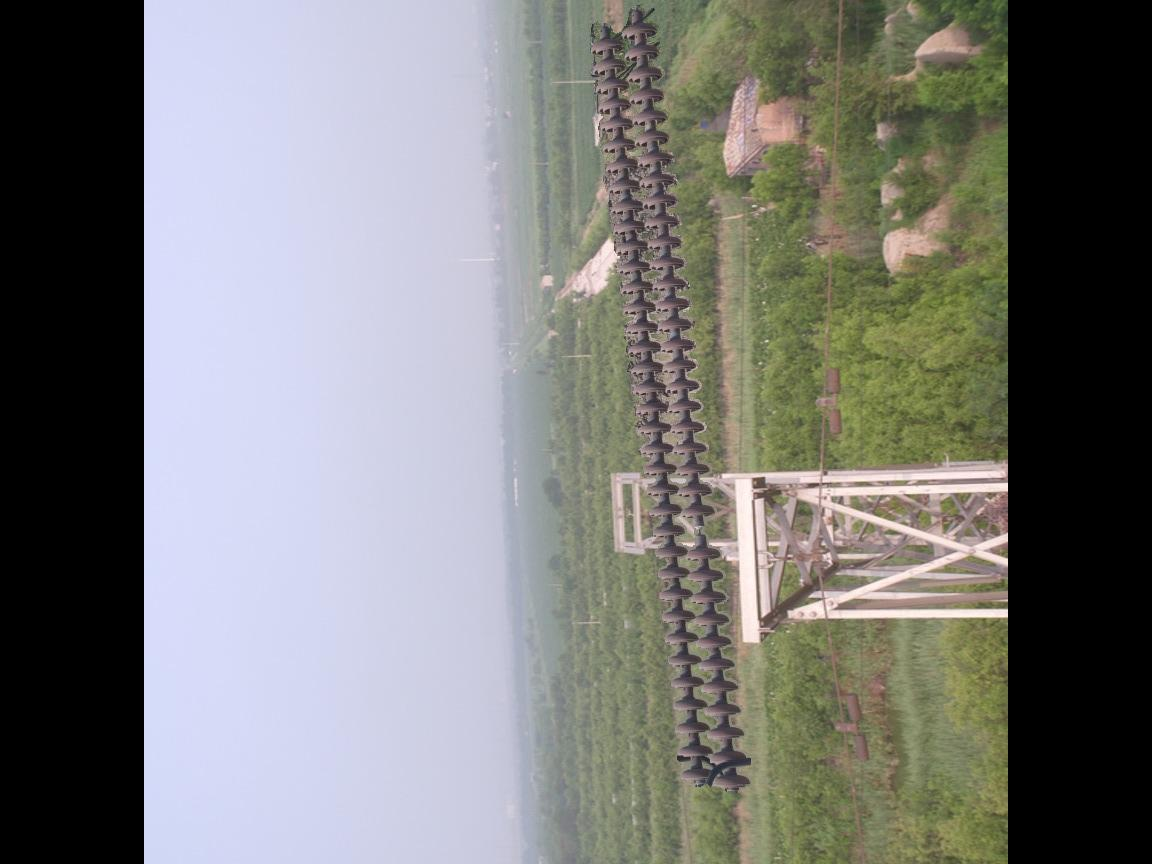insulator: (584, 9, 756, 800)
insulator_stringdrop: (679, 500, 727, 566)
